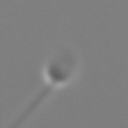normal: (7, 84, 52, 128)
